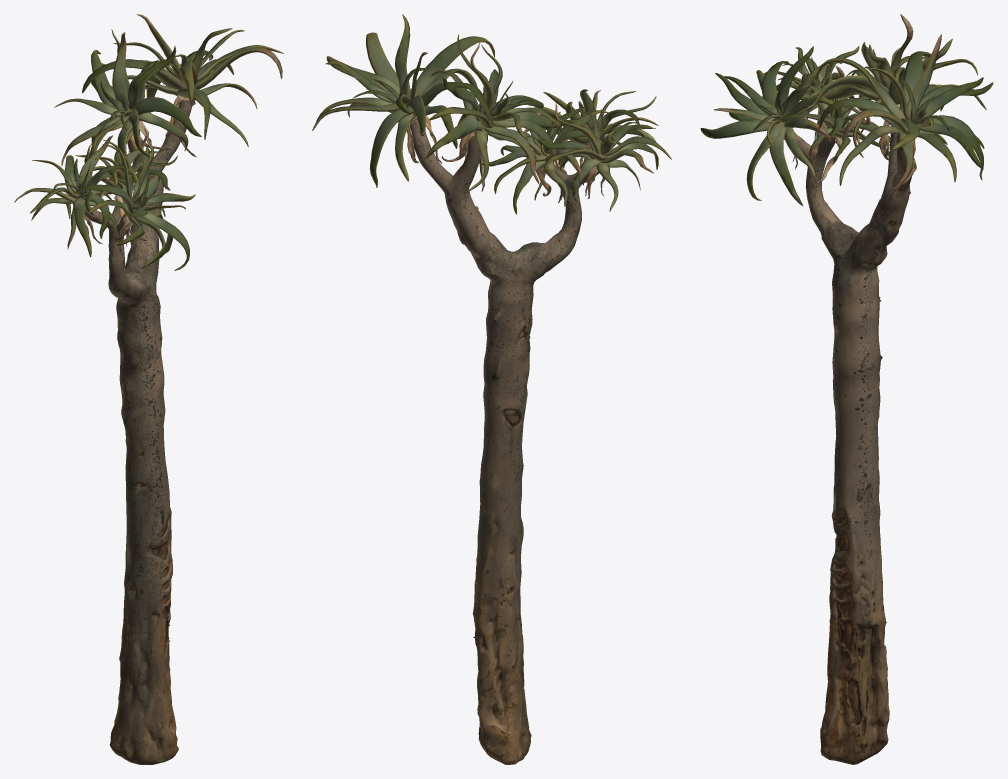
The model's file is quiver_tree_01.glb.
3 views of the same model, side by side, from view 1: azimuth 30°, elevation 25°; view 2: azimuth 150°, elevation 25°; view 3: azimuth 270°, elevation 25° (orthographic). The views are drawn at different scales.
Parts seen in each view (by area): view 1: quiver_tree_01; view 2: quiver_tree_01; view 3: quiver_tree_01.
Part boxes in pixels (box(x1,y1,x2,y2)): quiver_tree_01: box(14, 14, 283, 764); quiver_tree_01: box(312, 14, 671, 764); quiver_tree_01: box(700, 14, 993, 764).
Size of the model in its own units: 1.18 by 2.72 by 0.9677.
2 materials, 2 textured.
